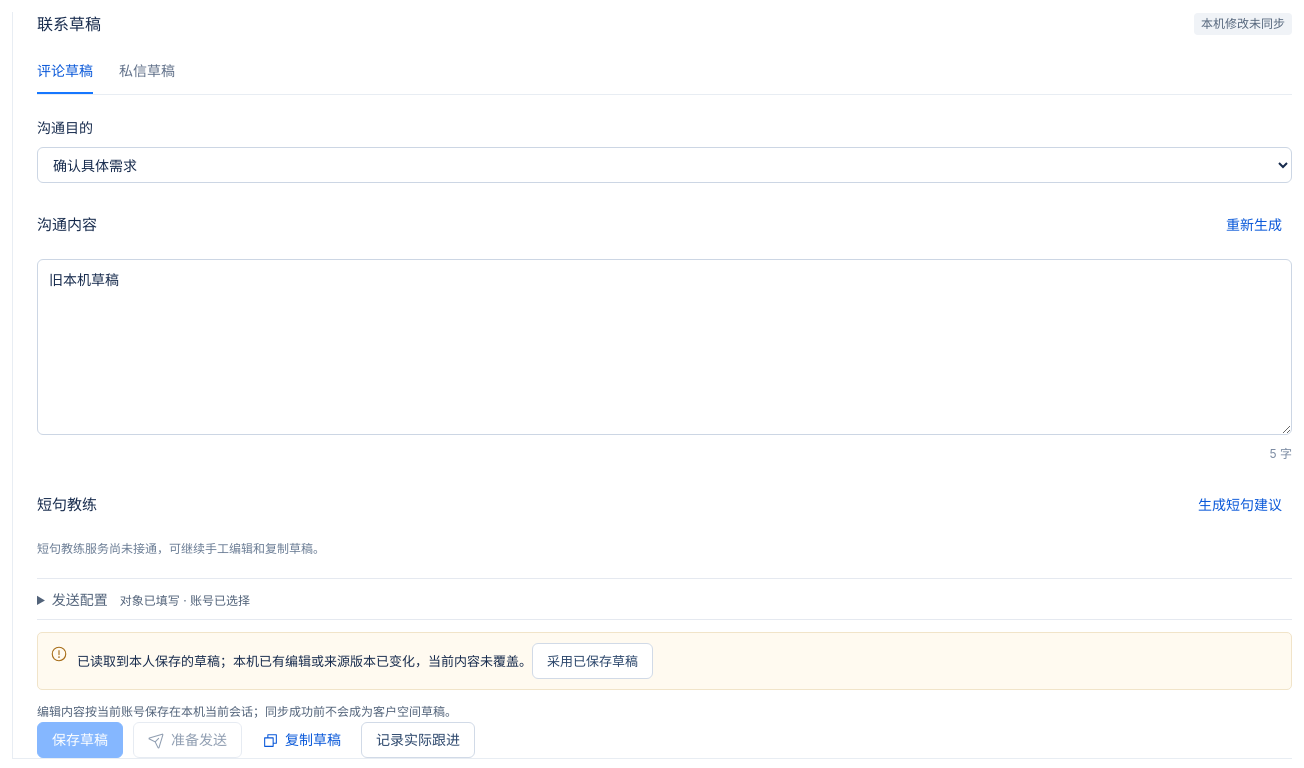
ordinary client contact draft persistence › does not use latest as an implicit predecessor for an old local cache
Expected: the text box named "沟通内容" holds "旧本机草稿", [37,259,1292,435]
Expected: the button "保存草稿" is disabled, [37,722,123,758]
Click the button "采用已保存草稿". click: (592, 661)
box: [532,643,653,679]
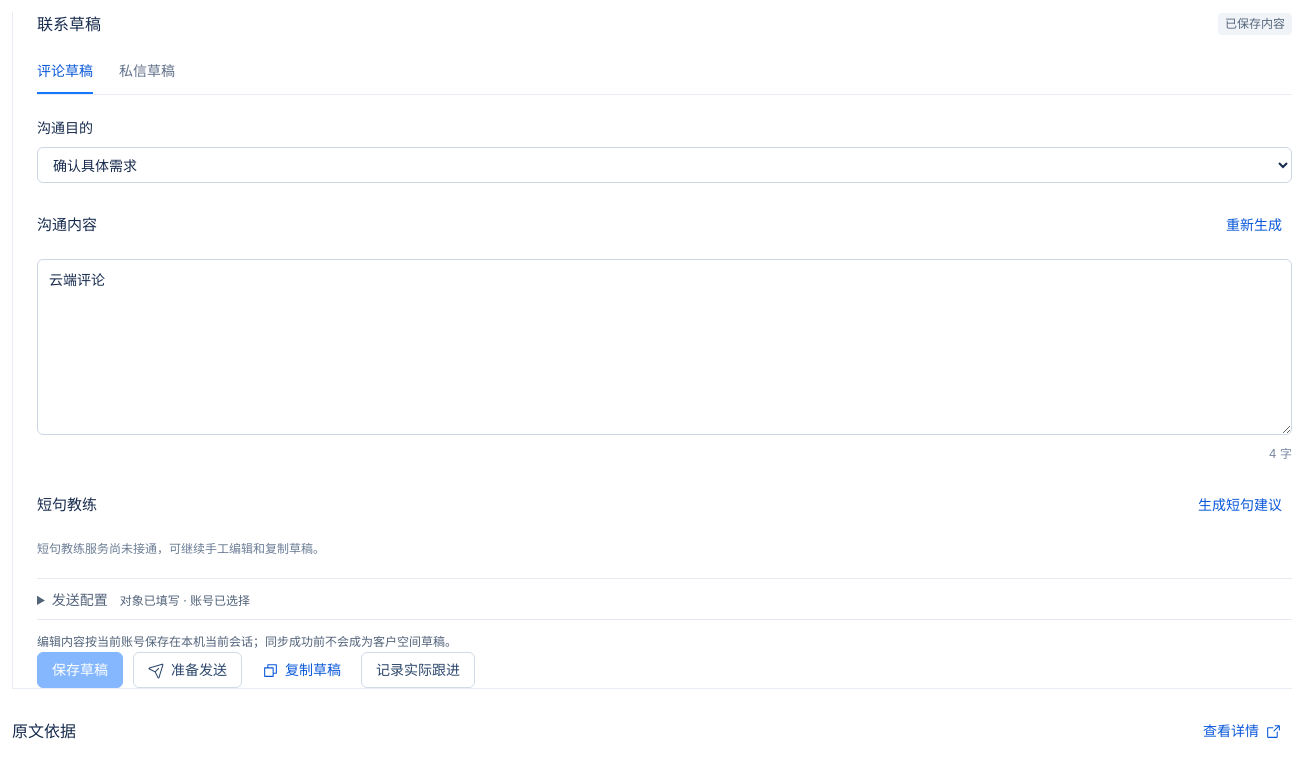
Expected: the text box named "沟通内容" holds "云端评论", [37,259,1292,435]
